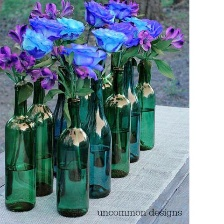bottle: (2, 78, 37, 213), (59, 94, 94, 220), (25, 73, 59, 201), (87, 74, 116, 202), (105, 66, 133, 181), (117, 55, 142, 165), (47, 73, 71, 179), (133, 56, 156, 153)
